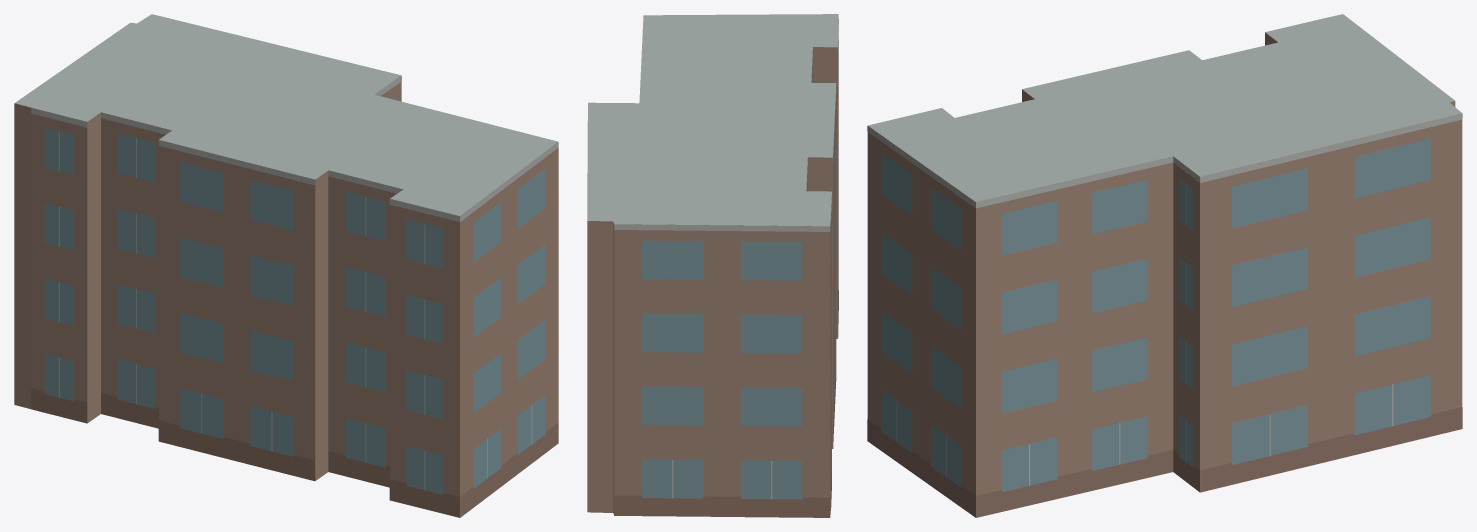
Rendered from survey-upis-32559989.glb.
3 views of the same model, side by side, from view 1: azimuth 30°, elevation 25°; view 2: azimuth 150°, elevation 25°; view 3: azimuth 270°, elevation 25° (orthographic). The views are drawn at different scales.
Visible parts, largest first — view 1: survey-upis-32559989.tmp; view 2: survey-upis-32559989.tmp; view 3: survey-upis-32559989.tmp.
Part boxes in pixels (x1,y1,x2,y2): survey-upis-32559989.tmp: (14,14,558,517); survey-upis-32559989.tmp: (587,14,838,517); survey-upis-32559989.tmp: (867,14,1462,517).
Size of the model in its own units: 15.93 by 12.45 by 21.27.
